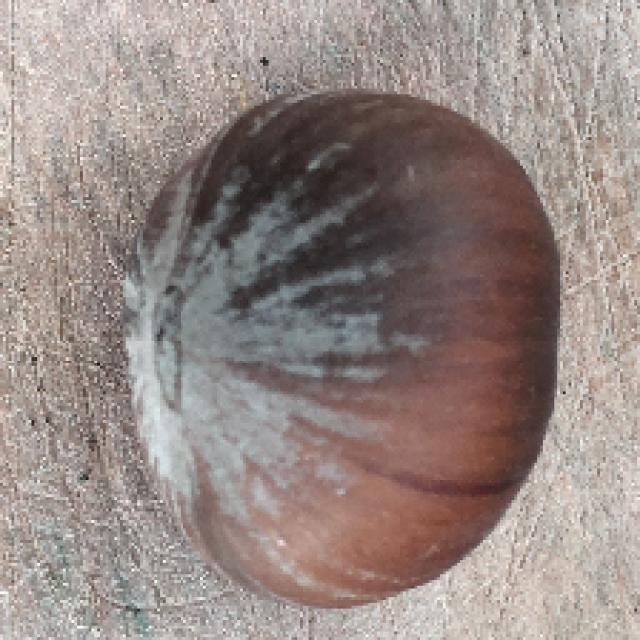damagedHazelnut: (97, 88, 565, 601)
